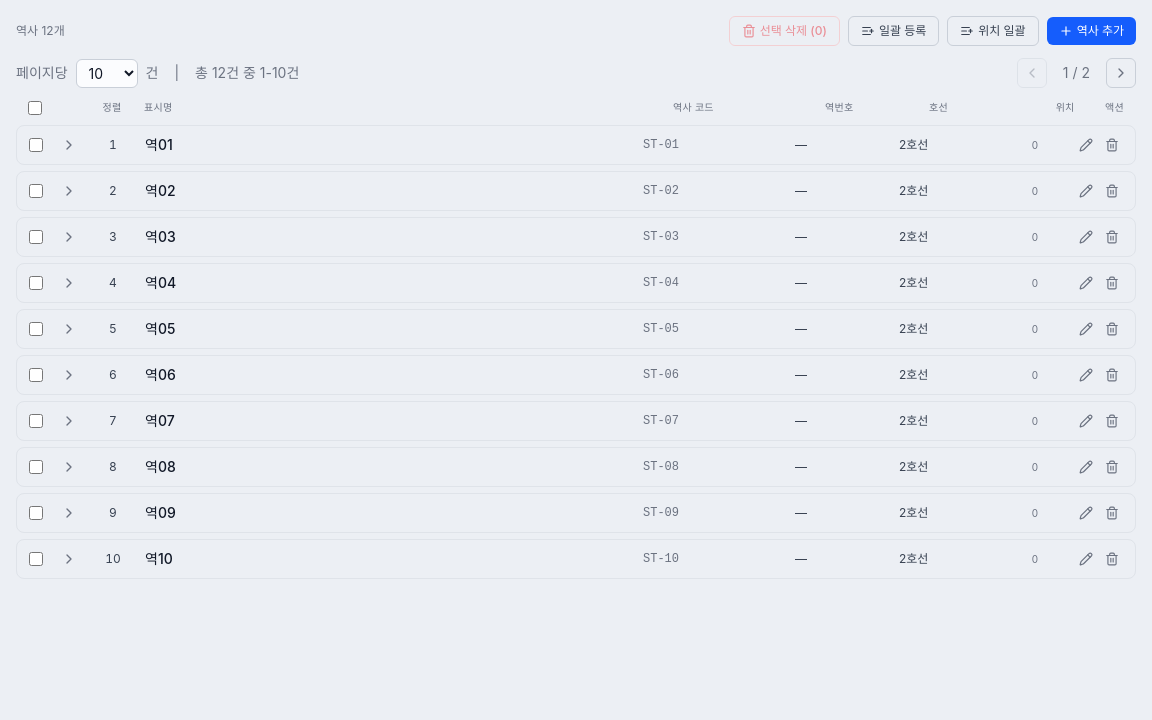
XsfmStationsTab 페이지네이션 › 전체선택은 현재 페이지의 보이는 역사만 선택한다(10개)
Click the checkbox named "전체 선택" at (35, 108), box x1=28 y1=100 x2=42 y2=114
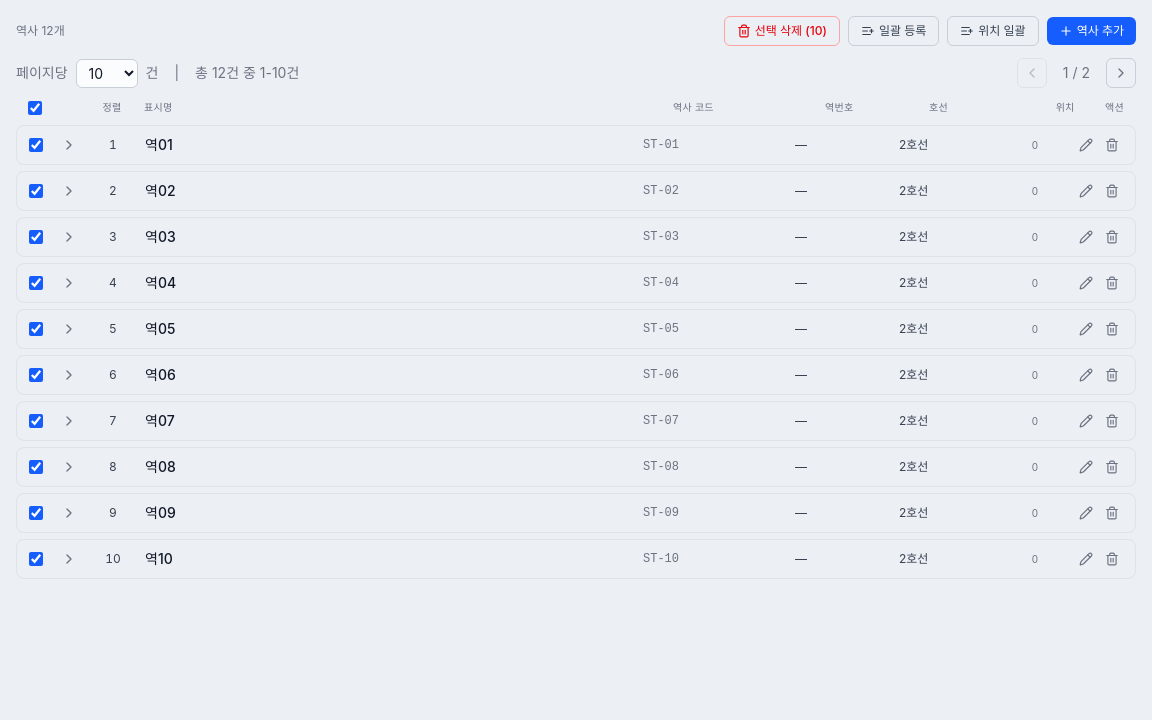
Expected: the button "선택 삭제 (10)" is shown, x1=724 y1=16 x2=840 y2=46
